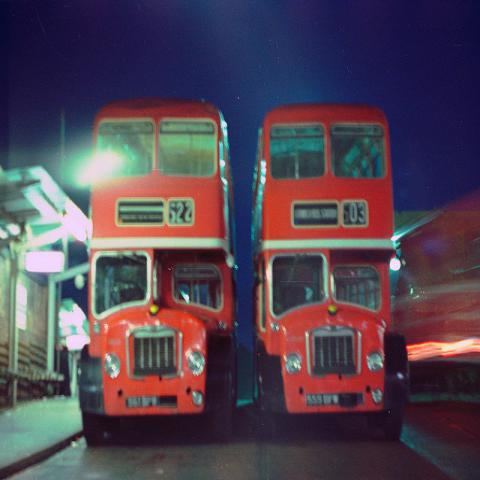bus: (76, 99, 239, 452), (252, 101, 409, 440)
